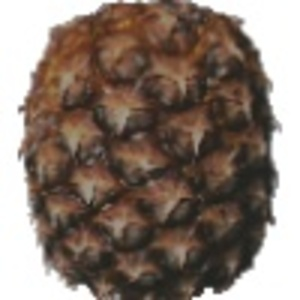abacaxi: (13, 3, 283, 296)
